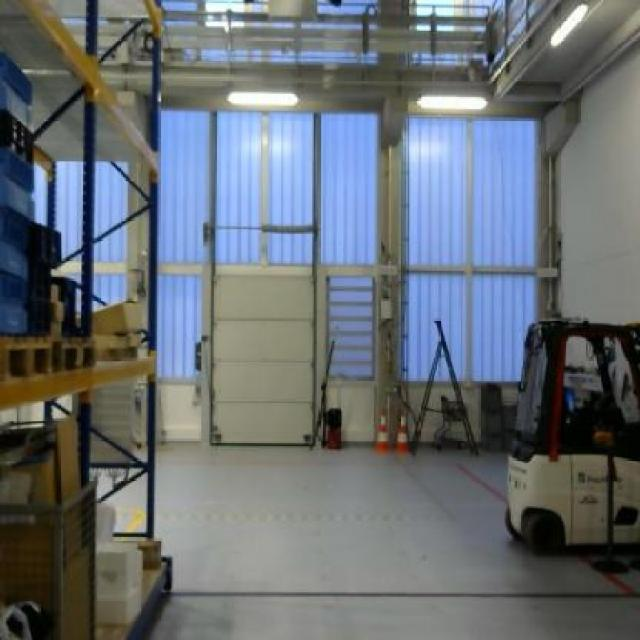box: (91, 295, 144, 334)
